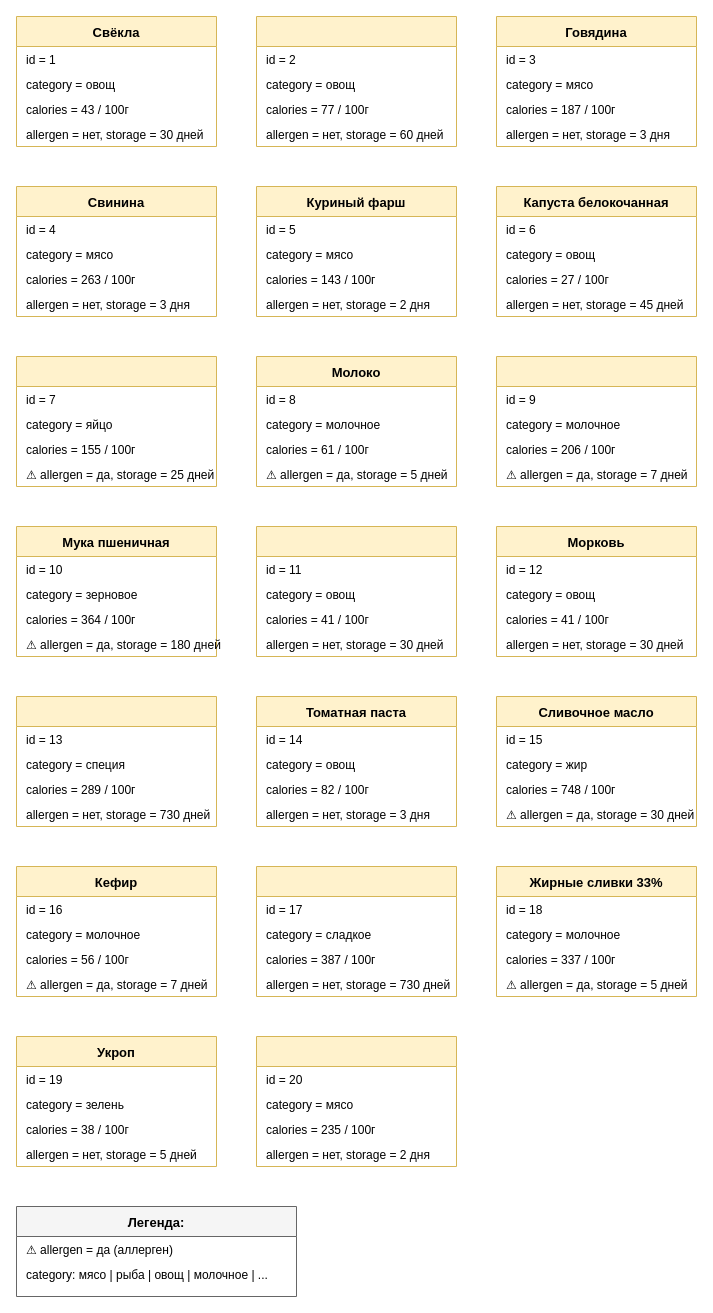
Image size: 713x1313. Some labels were removed from this diagram. Here are the shapes that lost their labels. From the top down, the box of each, then its label:
(256, 16, 456, 146): Картофель
(16, 356, 216, 486): Яйцо куриное
(496, 356, 696, 486): Сметана
(256, 526, 456, 656): Лук репчатый
(16, 696, 216, 826): Паприка сладкая
(256, 866, 456, 996): Сахар
(256, 1036, 456, 1166): Фарш говяжий
